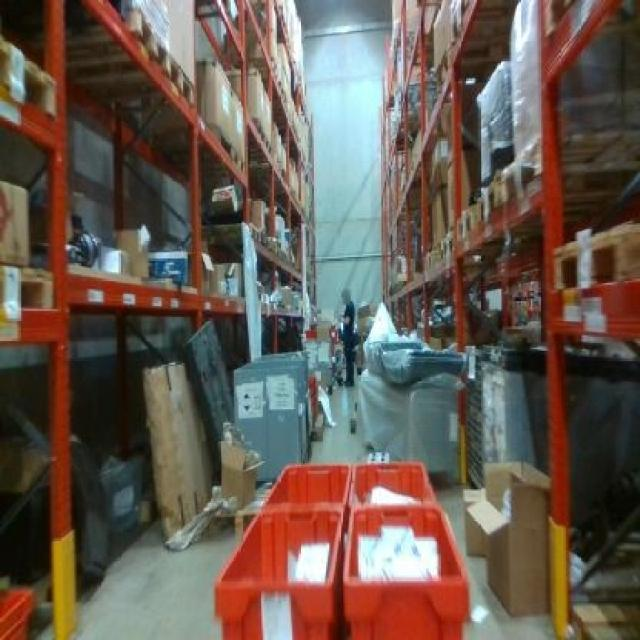pallets: (214, 463, 348, 637), (214, 503, 340, 637), (342, 502, 465, 637), (465, 460, 546, 612)
